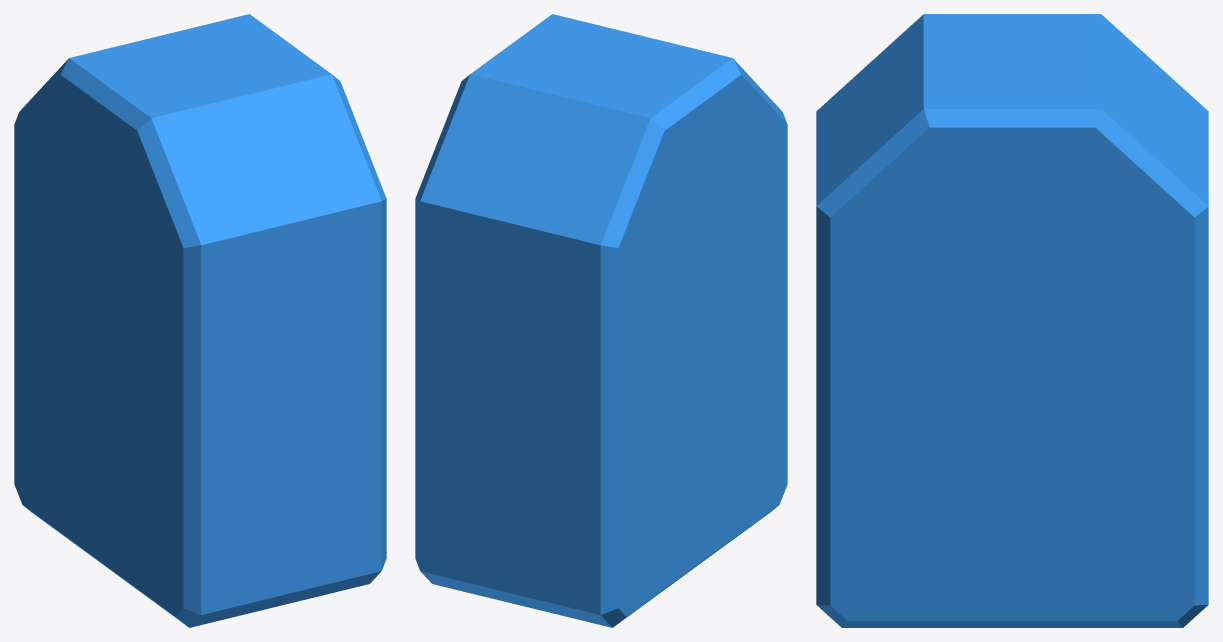
The model's file is printernozzle.glb.
3 views of the same model, side by side, from view 1: azimuth 30°, elevation 25°; view 2: azimuth 150°, elevation 25°; view 3: azimuth 270°, elevation 25° (orthographic). The views are drawn at different scales.
Visible parts, largest first — view 1: Extruder; view 2: Extruder; view 3: Extruder.
Boxes of the visible parts, bbox=[...] form: Extruder: bbox=[14, 14, 386, 627]; Extruder: bbox=[415, 14, 787, 627]; Extruder: bbox=[816, 14, 1208, 627].
Size of the model in its own units: 0.0549 by 0.1346 by 0.0853.
